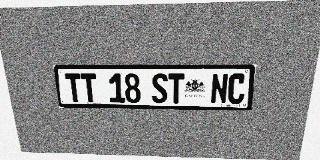1: (108, 73, 125, 103)
8: (124, 73, 141, 103)
C: (227, 73, 246, 104)
N: (210, 73, 229, 104)
S: (151, 73, 167, 103)
T: (65, 73, 83, 102), (80, 73, 98, 102), (168, 73, 184, 103)
